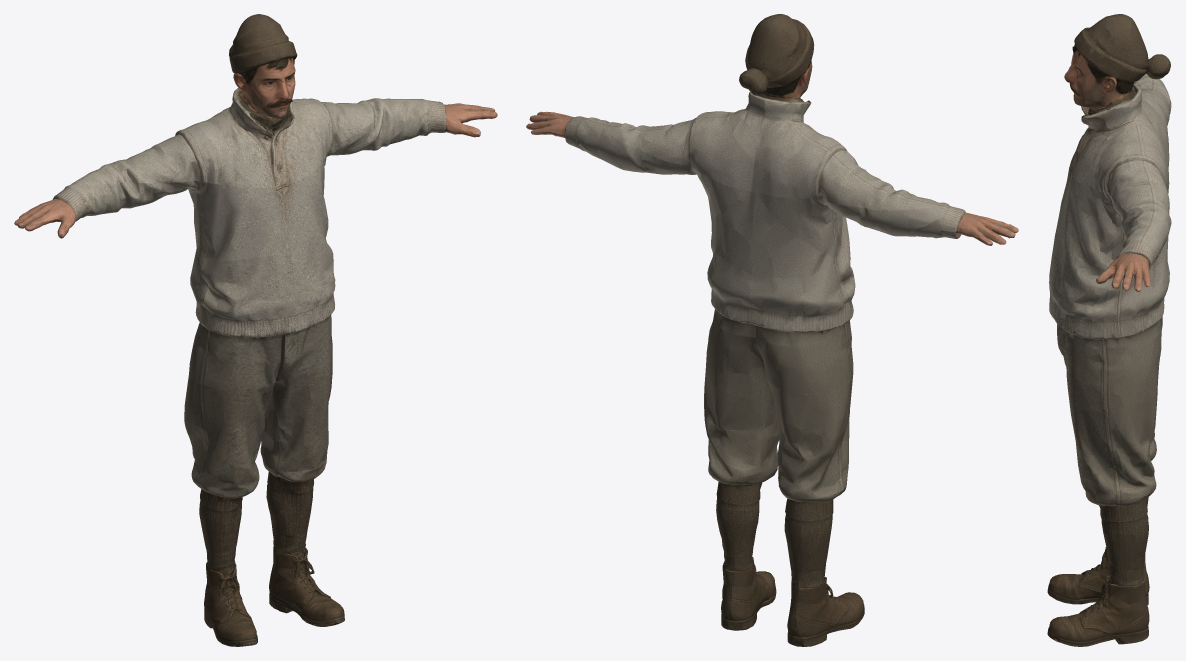
The model's file is villager__explorer_e5.glb.
The picture shows the model from 3 angles, left to right: view 1: azimuth 30°, elevation 25°; view 2: azimuth 150°, elevation 25°; view 3: azimuth 270°, elevation 25°; orthographic projection.
Parts seen in each view (by area): view 1: mesh_node; view 2: mesh_node; view 3: mesh_node.
Boxes of the visible parts, left/top/right/bottom form: mesh_node: left=14, top=14, right=497, bottom=646; mesh_node: left=526, top=14, right=1018, bottom=646; mesh_node: left=1047, top=14, right=1171, bottom=646.
Bounding box in the file's own units: 1.58 × 1.9 × 0.3536.
1 material, 1 textured.
